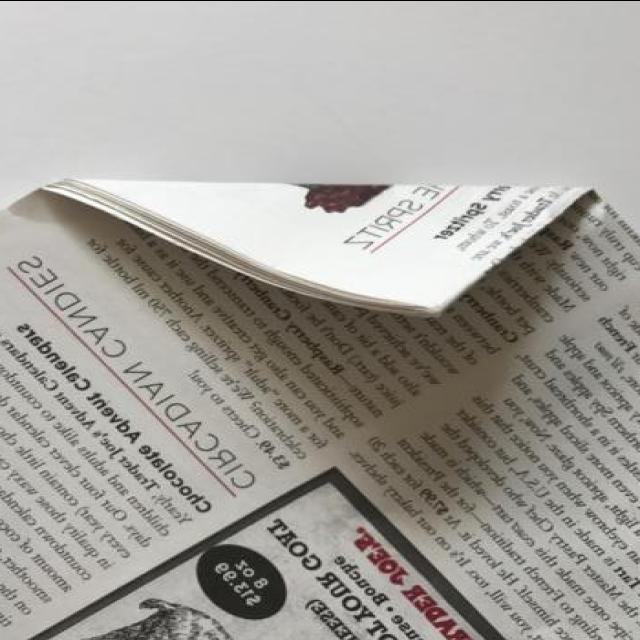kertas: (0, 171, 640, 640)
